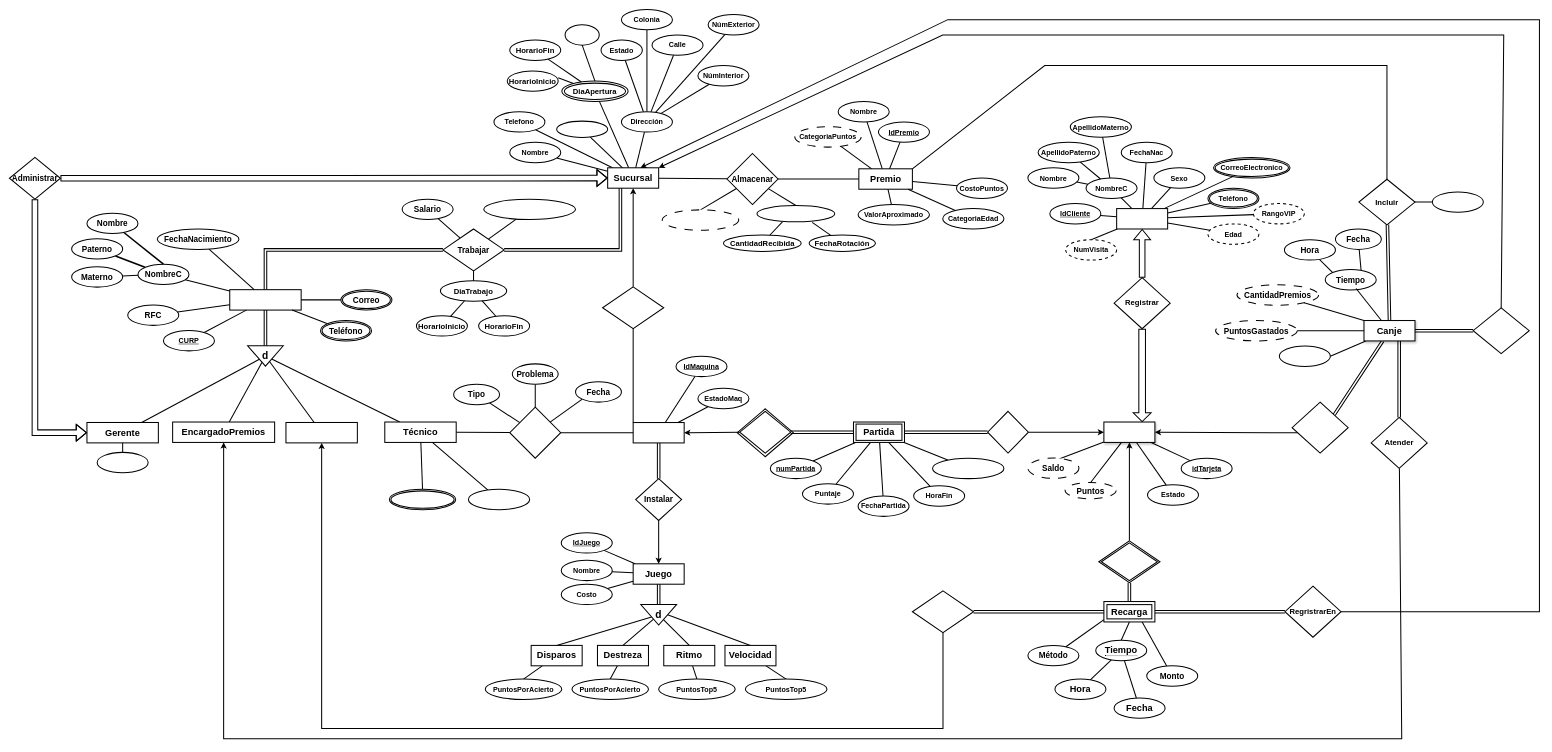
The diagram is 1552 pixels wide and 752 high, and some of its shapes have lost their labels. Each missing label, with the centre of its shape:
"Cajero" goes at (321,432).
"Cantidad" goes at (1458,202).
"CantidadDisponible" goes at (700,220).
"CantidadInicial" goes at (795,213).
"Certificacion" goes at (422,499).
"Cliente" goes at (1142,218).
"Cédula" goes at (122,462).
"Dia" goes at (582,34).
"Efectuar" goes at (1319,427).
"Empleado" goes at (265,299).
"Especialidad" goes at (499,499).
"FechaContratación" goes at (529,209).
"IdCanje" goes at (1305,356).
"IdSucursal" goes at (582,129).
"Jugar" goes at (1008,432).
"Maquina" goes at (658,432).
"OcurrirEn" goes at (1500,330).
"Pedir" goes at (1129,561).
"Pertenecer" goes at (633,307).
"PuntosObtenidos" goes at (968,468).
"Realizar" goes at (943,611).
"Reparar" goes at (535,432).
"Reproducir" goes at (765,432).
"Tarjeta" goes at (1129,432).
